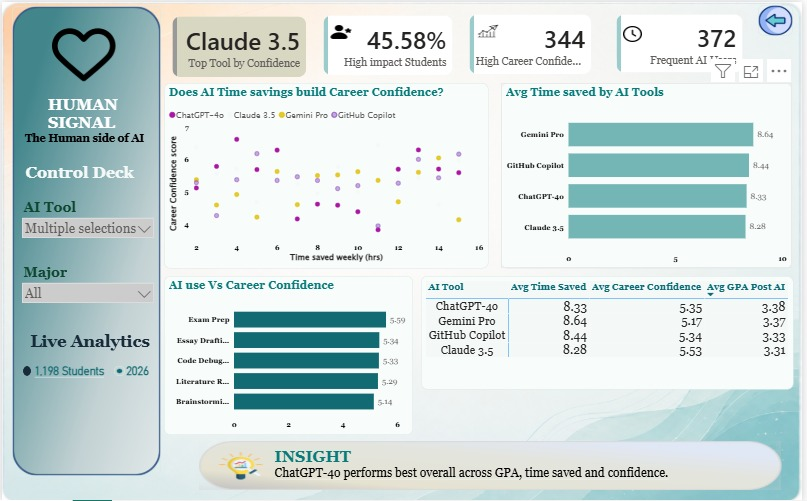

Layout of this report page (visuals, bound fields, positions):
{"tool":"powerbi","page":{"name":"Page 2","canvas":[1600,1000],"ordinal":1},"visuals":[{"type":"image","box":[20,7.5,297.5,940],"z":0},{"type":"cardVisual","fields":{"Data":["Measures page2.High Career Confidence"]},"box":[918.4,8.2,277.8,153.7],"z":0,"group":"g4"},{"type":"cardVisual","fields":{"Data":["Measures page2.Frequent AI Users"]},"box":[1212.2,8.2,286.4,150],"z":0,"group":"g2"},{"type":"cardVisual","fields":{"Data":["Measures page2.High impact Students"]},"box":[626.5,10.2,292.6,153.7],"z":0,"group":"g3"},{"type":"actionButton","box":[236,708,70,58],"z":0,"group":"g1"},{"type":"image","box":[949.3,43.1,48,32],"z":1000,"group":"g4"},{"type":"image","box":[656.6,45.1,44,32],"z":1000,"group":"g3"},{"type":"image","box":[1242.7,49.1,37.7,32],"z":1000,"group":"g2"},{"type":"shape","box":[42,728,16,20],"z":1000},{"type":"shape","box":[224,728,22,20],"z":1000,"group":"g1"},{"type":"actionButton","box":[46,648,260,60],"z":2000},{"type":"group","id":"g1","title":"2026","box":[224,708,82,58],"z":3000},{"type":"image","box":[1512,6,70,62],"z":4000},{"type":"slicer","fields":{"Values":["AI_Impact_Student_Life_2026.Major"]},"box":[30,518.3,284,90],"z":5000},{"type":"slicer","fields":{"Values":["AI_Impact_Student_Life_2026.Primary_AI_Tool"]},"box":[30,388.3,284,90],"z":6000},{"type":"textbox","box":[30,181.7,275,120],"z":7000},{"type":"image","box":[41.7,41.7,243.3,126.7],"z":8000},{"type":"textbox","box":[41.7,318.3,270,54],"z":9000},{"type":"group","id":"g2","title":"Group 2","box":[1212.2,8.2,285.7,149],"z":10000},{"type":"group","id":"g3","title":"Group 2","box":[626.5,10.2,293.9,155.1],"z":11000},{"type":"group","id":"g4","title":"Group 2","box":[918.4,8.2,277.6,155.1],"z":12000},{"type":"textbox","box":[60,718,164,58],"z":13000},{"type":"group","id":"g5","title":"Group 3","box":[393.9,877.6,1164.8,98.3],"z":14000},{"type":"scatterChart","title":"Does AI Time savings build Career Confidence?","fields":{"X":["Data.Time_Saved_Hours_Weekly"],"Y":["Avg(Data.Career_Confidence_Score)1"],"Series":["Data.Primary_AI_Tool"]},"box":[324.5,161.2,649,371.4],"z":15000},{"type":"cardVisual","fields":{"Data":["Measures page2.Top Tool by Confidence"]},"box":[324.5,12.2,301.9,155.6],"z":16000},{"type":"barChart","title":"Avg Time saved by AI Tools","fields":{"Y":["Avg(Data.Time_Saved_Hours_Weekly)"],"Category":["Data.Primary_AI_Tool"]},"box":[998,161.2,581.6,371.4],"z":17000},{"type":"barChart","title":"AI use Vs Career Confidence","fields":{"Category":["Data.Main_Usage_Case"],"Y":["Avg(Data.Career_Confidence_Score)"]},"box":[324.5,549,498,318.4],"z":18000},{"type":"pivotTable","fields":{"Rows":["Data.Primary_AI_Tool"],"Values":["Avg(Data.Time_Saved_Hours_Weekly)","Avg(Data.Career_Confidence_Score)","Avg(Data.GPA_Post_AI)"]},"box":[838.8,549,744.9,226.5],"z":19000},{"type":"image","title":"rr","box":[393.9,877.6,1164.8,98.3],"z":19000,"group":"g6"},{"type":"group","id":"g6","title":"Group 1","box":[393.9,877.6,1164.8,98.3],"z":20000,"group":"g5"},{"type":"image","box":[430.4,899.3,94.6,55],"z":20000,"group":"g6"},{"type":"textbox","box":[539,884.6,1012.2,87.8],"z":20500,"group":"g5"}]}

Visuals, with their boxes in screenshot pixels (x1, y1, x2, y2), scaled from the page's 1600x1000 canvas onto the 807x501 screenshot:
image: {"left": 10, "top": 4, "right": 160, "bottom": 475}
cardVisual - Measures page2.High Career Confidence: {"left": 463, "top": 4, "right": 603, "bottom": 81}
cardVisual - Measures page2.Frequent AI Users: {"left": 611, "top": 4, "right": 756, "bottom": 79}
cardVisual - Measures page2.High impact Students: {"left": 316, "top": 5, "right": 464, "bottom": 82}
actionButton: {"left": 119, "top": 355, "right": 154, "bottom": 384}
image: {"left": 479, "top": 22, "right": 503, "bottom": 38}
image: {"left": 331, "top": 23, "right": 353, "bottom": 39}
image: {"left": 627, "top": 25, "right": 646, "bottom": 41}
shape: {"left": 21, "top": 365, "right": 29, "bottom": 375}
shape: {"left": 113, "top": 365, "right": 124, "bottom": 375}
actionButton: {"left": 23, "top": 325, "right": 154, "bottom": 355}
"2026" group: {"left": 113, "top": 355, "right": 154, "bottom": 384}
image: {"left": 763, "top": 3, "right": 798, "bottom": 34}
slicer - AI_Impact_Student_Life_2026.Major: {"left": 15, "top": 260, "right": 158, "bottom": 305}
slicer - AI_Impact_Student_Life_2026.Primary_AI_Tool: {"left": 15, "top": 195, "right": 158, "bottom": 240}
textbox: {"left": 15, "top": 91, "right": 154, "bottom": 151}
image: {"left": 21, "top": 21, "right": 144, "bottom": 84}
textbox: {"left": 21, "top": 159, "right": 157, "bottom": 187}
"Group 2" group: {"left": 611, "top": 4, "right": 756, "bottom": 79}
"Group 2" group: {"left": 316, "top": 5, "right": 464, "bottom": 83}
"Group 2" group: {"left": 463, "top": 4, "right": 603, "bottom": 82}
textbox: {"left": 30, "top": 360, "right": 113, "bottom": 389}
"Group 3" group: {"left": 199, "top": 440, "right": 786, "bottom": 489}
"Does AI Time savings build Career Confidence?" scatterChart: {"left": 164, "top": 81, "right": 491, "bottom": 267}
cardVisual - Measures page2.Top Tool by Confidence: {"left": 164, "top": 6, "right": 316, "bottom": 84}
"Avg Time saved by AI Tools" barChart: {"left": 503, "top": 81, "right": 797, "bottom": 267}
"AI use Vs Career Confidence" barChart: {"left": 164, "top": 275, "right": 415, "bottom": 435}
pivotTable - Data.Primary_AI_Tool x Avg(Data.Time_Saved_Hours_Weekly): {"left": 423, "top": 275, "right": 799, "bottom": 389}
"rr" image: {"left": 199, "top": 440, "right": 786, "bottom": 489}
"Group 1" group: {"left": 199, "top": 440, "right": 786, "bottom": 489}
image: {"left": 217, "top": 451, "right": 265, "bottom": 478}
textbox: {"left": 272, "top": 443, "right": 782, "bottom": 487}
